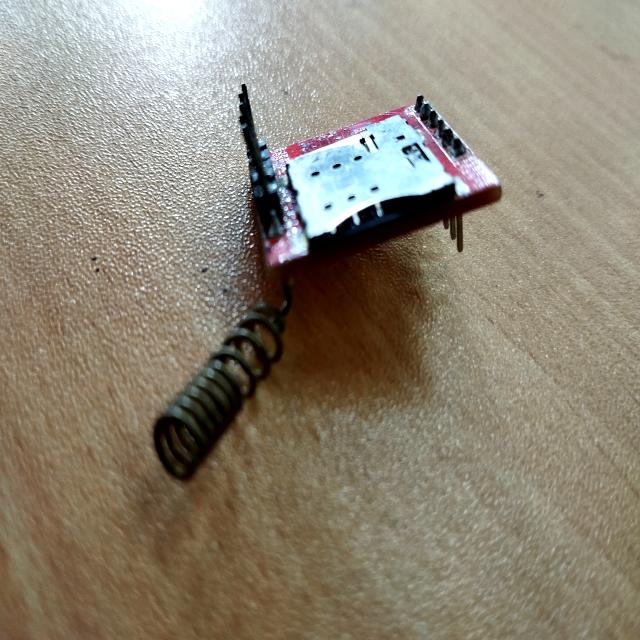GSM-Module: (136, 81, 507, 482)
